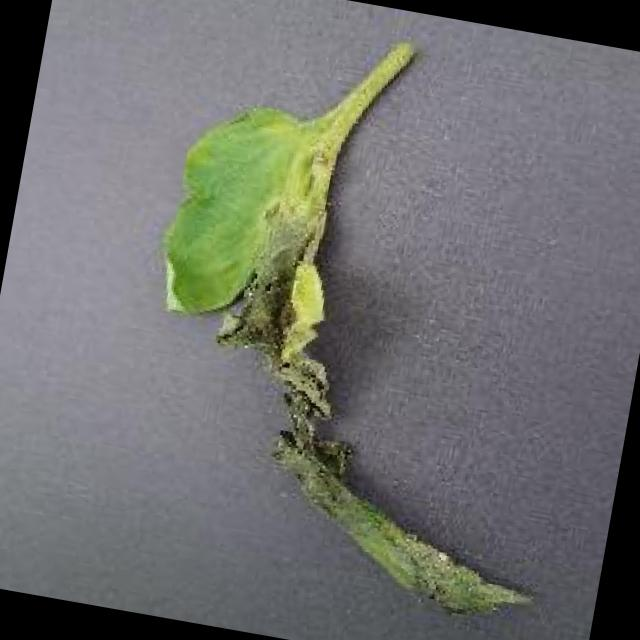Tomato_Late_Blight: (199, 151, 411, 572)
